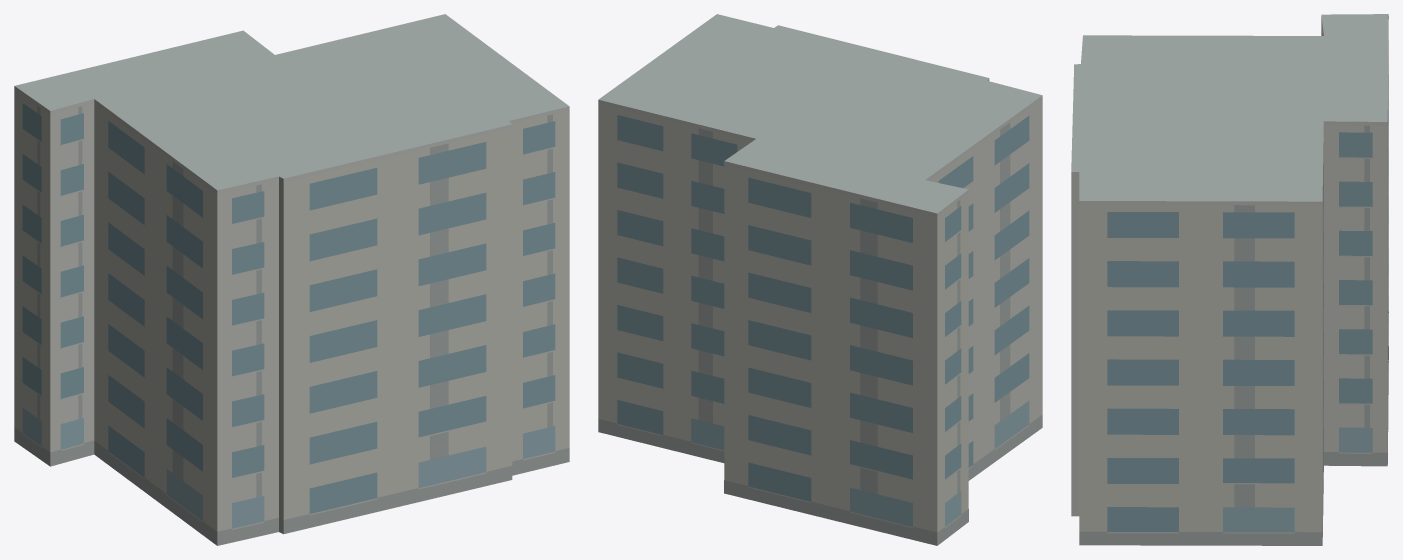
File: survey-upis-32949989.glb
The picture shows the model from 3 angles, left to right: view 1: azimuth 30°, elevation 25°; view 2: azimuth 150°, elevation 25°; view 3: azimuth 270°, elevation 25°; orthographic projection. The views are drawn at different scales.
Parts seen in each view (by area): view 1: survey-upis-32949989.tmp; view 2: survey-upis-32949989.tmp; view 3: survey-upis-32949989.tmp.
Part boxes in pixels (box(x1,y1,x2,y2)): survey-upis-32949989.tmp: box(14, 14, 569, 545); survey-upis-32949989.tmp: box(598, 14, 1042, 545); survey-upis-32949989.tmp: box(1071, 14, 1388, 545).
Size of the model in its own units: 25.71 by 22 by 18.4.
